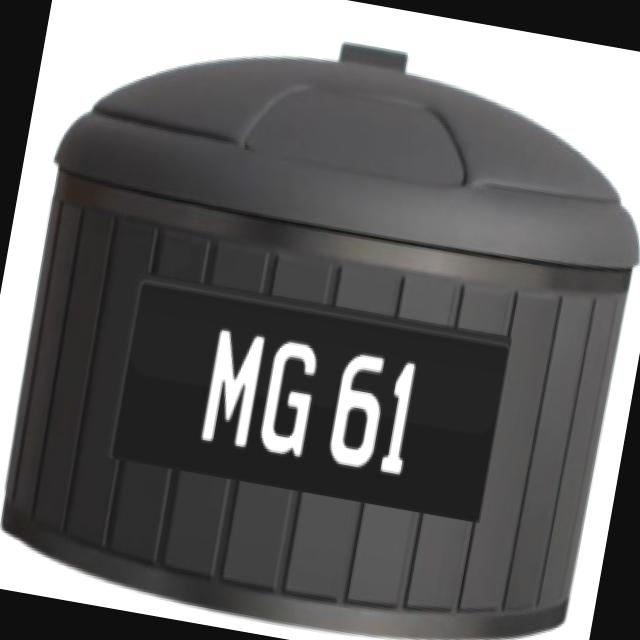bin_plate: (108, 268, 512, 521)
